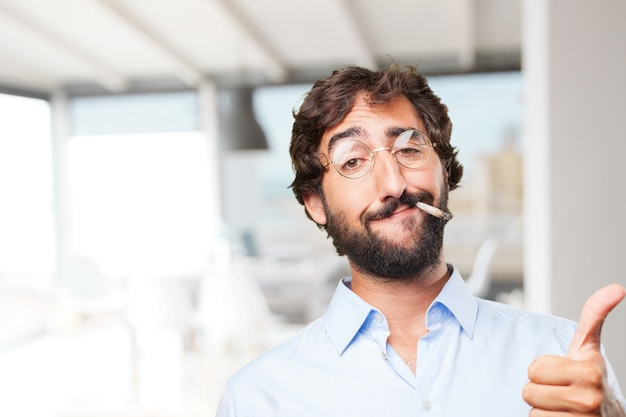cigarette: (413, 196, 454, 221)
